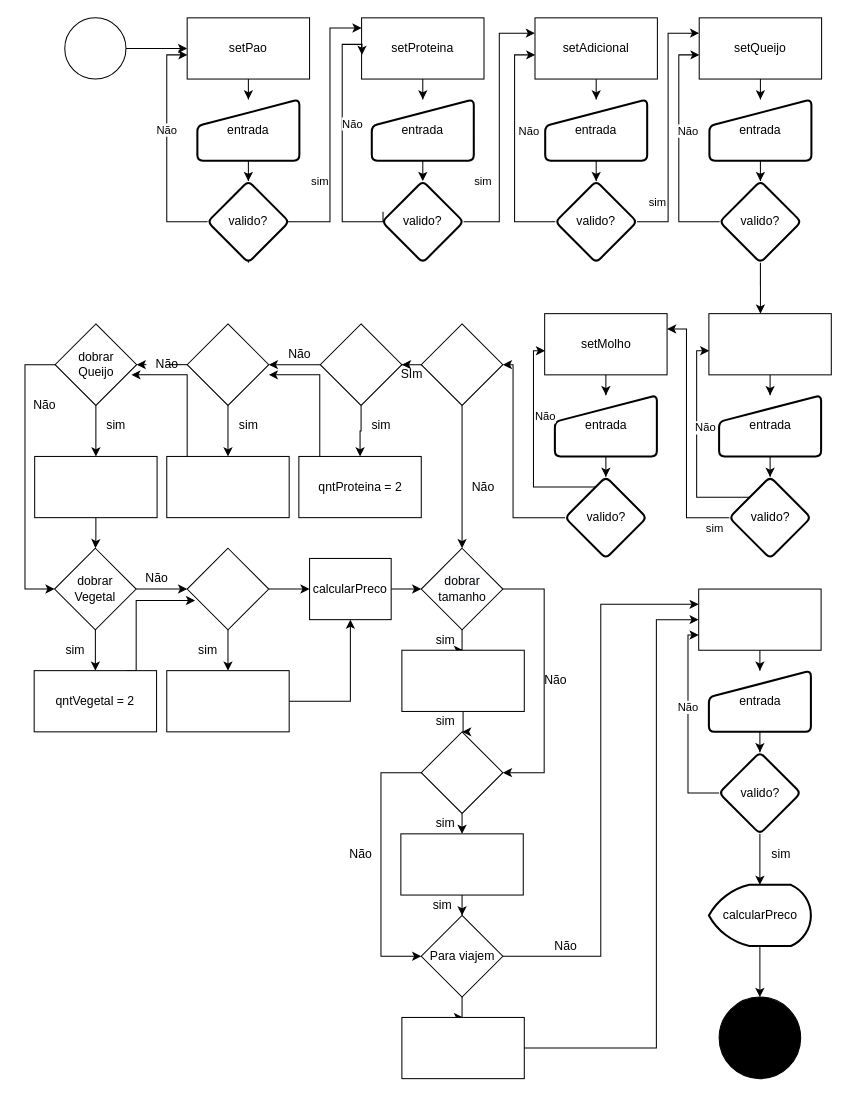
Image size: 850x1097. Some labels were removed from this diagram. The box of each missing label's shape, as (x1, y1, x2, y2) in pixels:
Aniversario: (420, 731, 503, 813)
dobrar Adicional: (186, 323, 269, 405)
dobrar ingrediente: (420, 323, 503, 405)
dobrar Molho: (186, 547, 269, 630)
dobrar Proteina: (319, 323, 402, 405)
PrecoFinal * 0.9: (400, 833, 523, 895)
PrecoFinal * 1.75: (401, 649, 524, 711)
PrecoFinal + 1: (401, 1016, 524, 1079)
qntAdicional = 2: (166, 455, 289, 518)
qntMolho = 2: (166, 670, 289, 732)
qntQueijo = 2: (34, 455, 157, 518)
setVegetal: (708, 313, 831, 375)
setVoucher: (698, 588, 821, 650)
